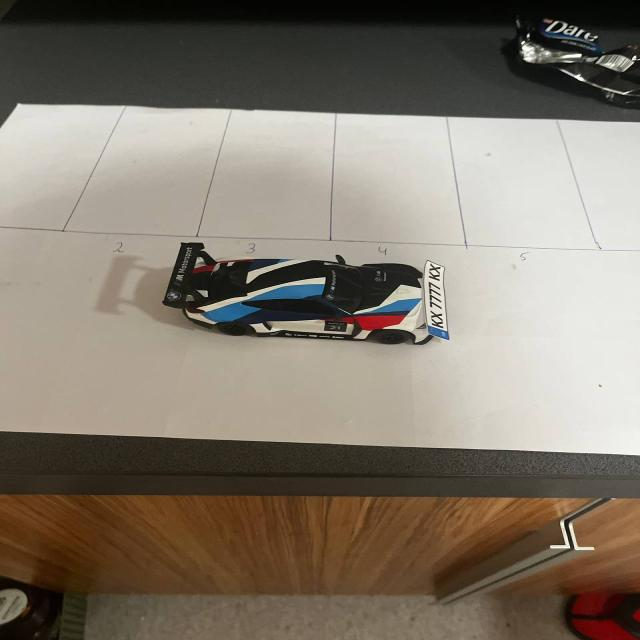cars: (147, 231, 470, 356)
